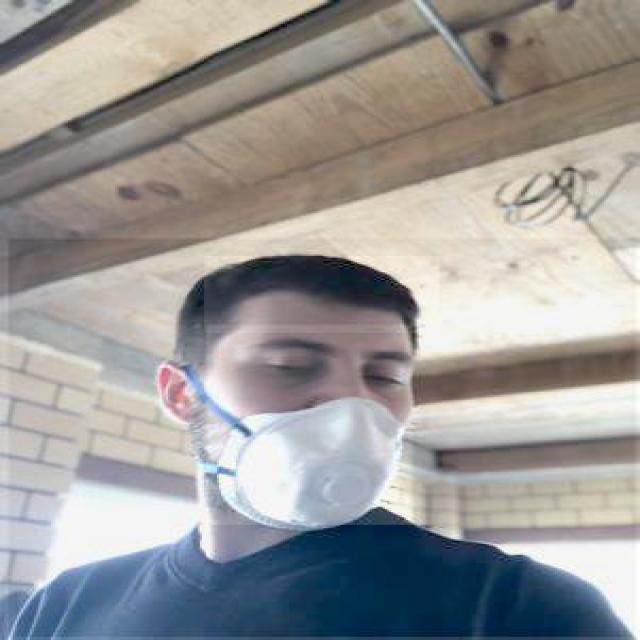face_mask: (206, 325, 412, 525)
head_nohelmet: (204, 256, 440, 333)
person: (8, 238, 638, 638)
